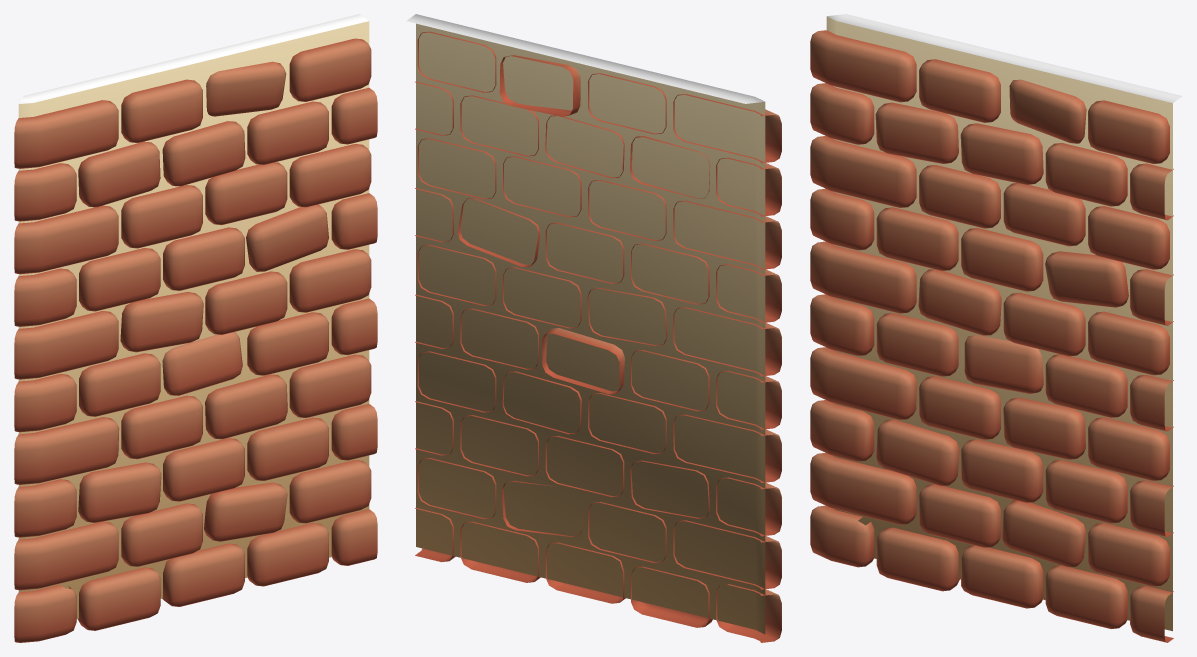
The model's file is BrickWallOuterLeftCorner1_M.fbx.
3 views of the same model, side by side, from view 1: azimuth 30°, elevation 25°; view 2: azimuth 150°, elevation 25°; view 3: azimuth 330°, elevation 25° (orthographic).
Parts seen in each view (by area): view 1: BrickWallCornerL; view 2: BrickWallCornerL; view 3: BrickWallCornerL.
Part boxes in pixels (x1,y1,x2,y2): BrickWallCornerL: (14, 14, 377, 642); BrickWallCornerL: (406, 14, 781, 642); BrickWallCornerL: (810, 14, 1182, 642).
Size of the model in its own units: 214 by 306 by 19.93.
